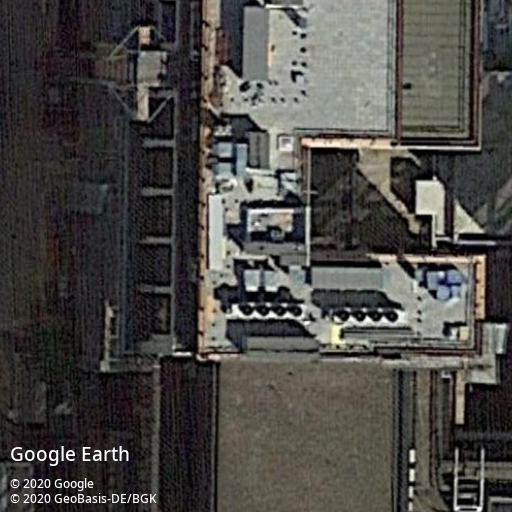Chiller: (230, 301, 308, 322), (331, 305, 409, 326)
